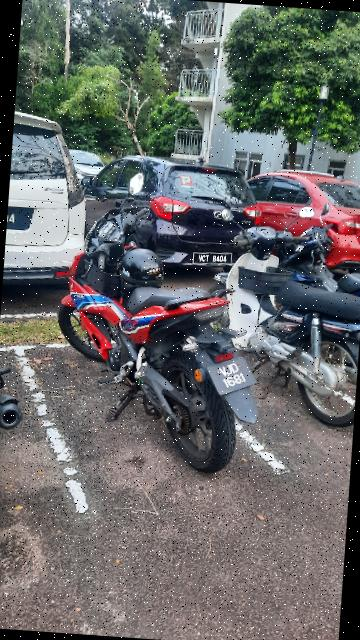License_Plate: (206, 349, 262, 399), (195, 245, 236, 268)
car: (95, 149, 259, 275), (5, 117, 97, 294), (243, 171, 360, 276)
motorcycle: (49, 169, 273, 482), (188, 190, 360, 434)
